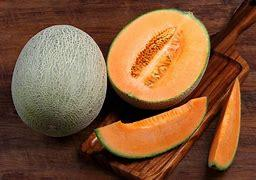Melon Ripe: (10, 24, 108, 137), (109, 8, 212, 102), (93, 97, 209, 158), (209, 77, 242, 172)
